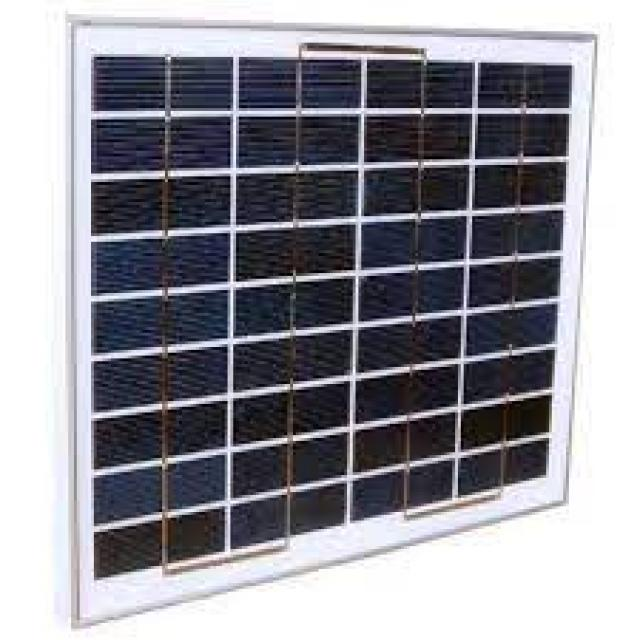faulty: (95, 46, 575, 556)
